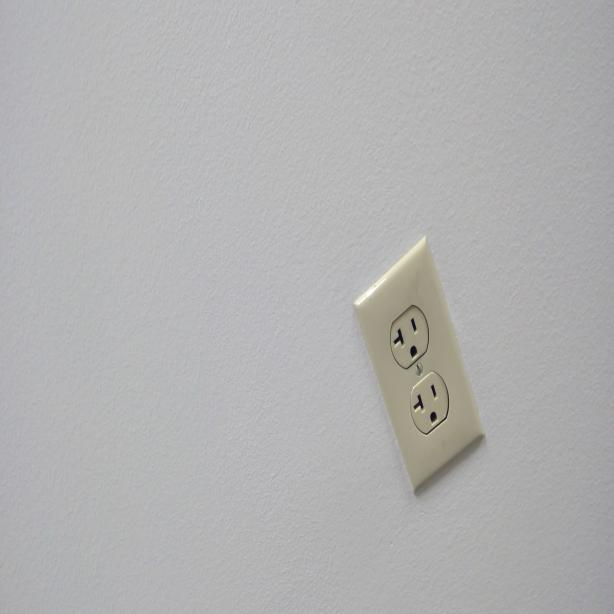typeb: (389, 299, 430, 363), (406, 376, 448, 429)
